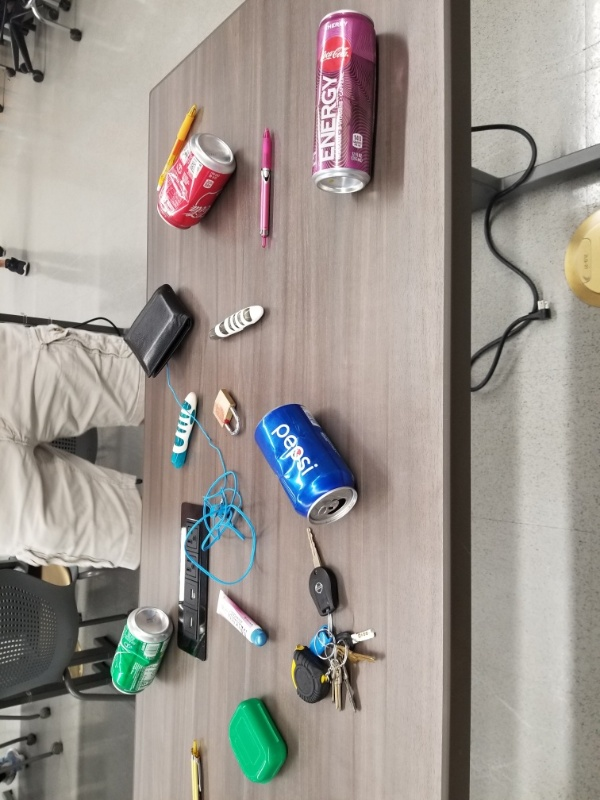can: (307, 7, 387, 197), (248, 401, 363, 530), (159, 131, 239, 237), (106, 606, 175, 704)
